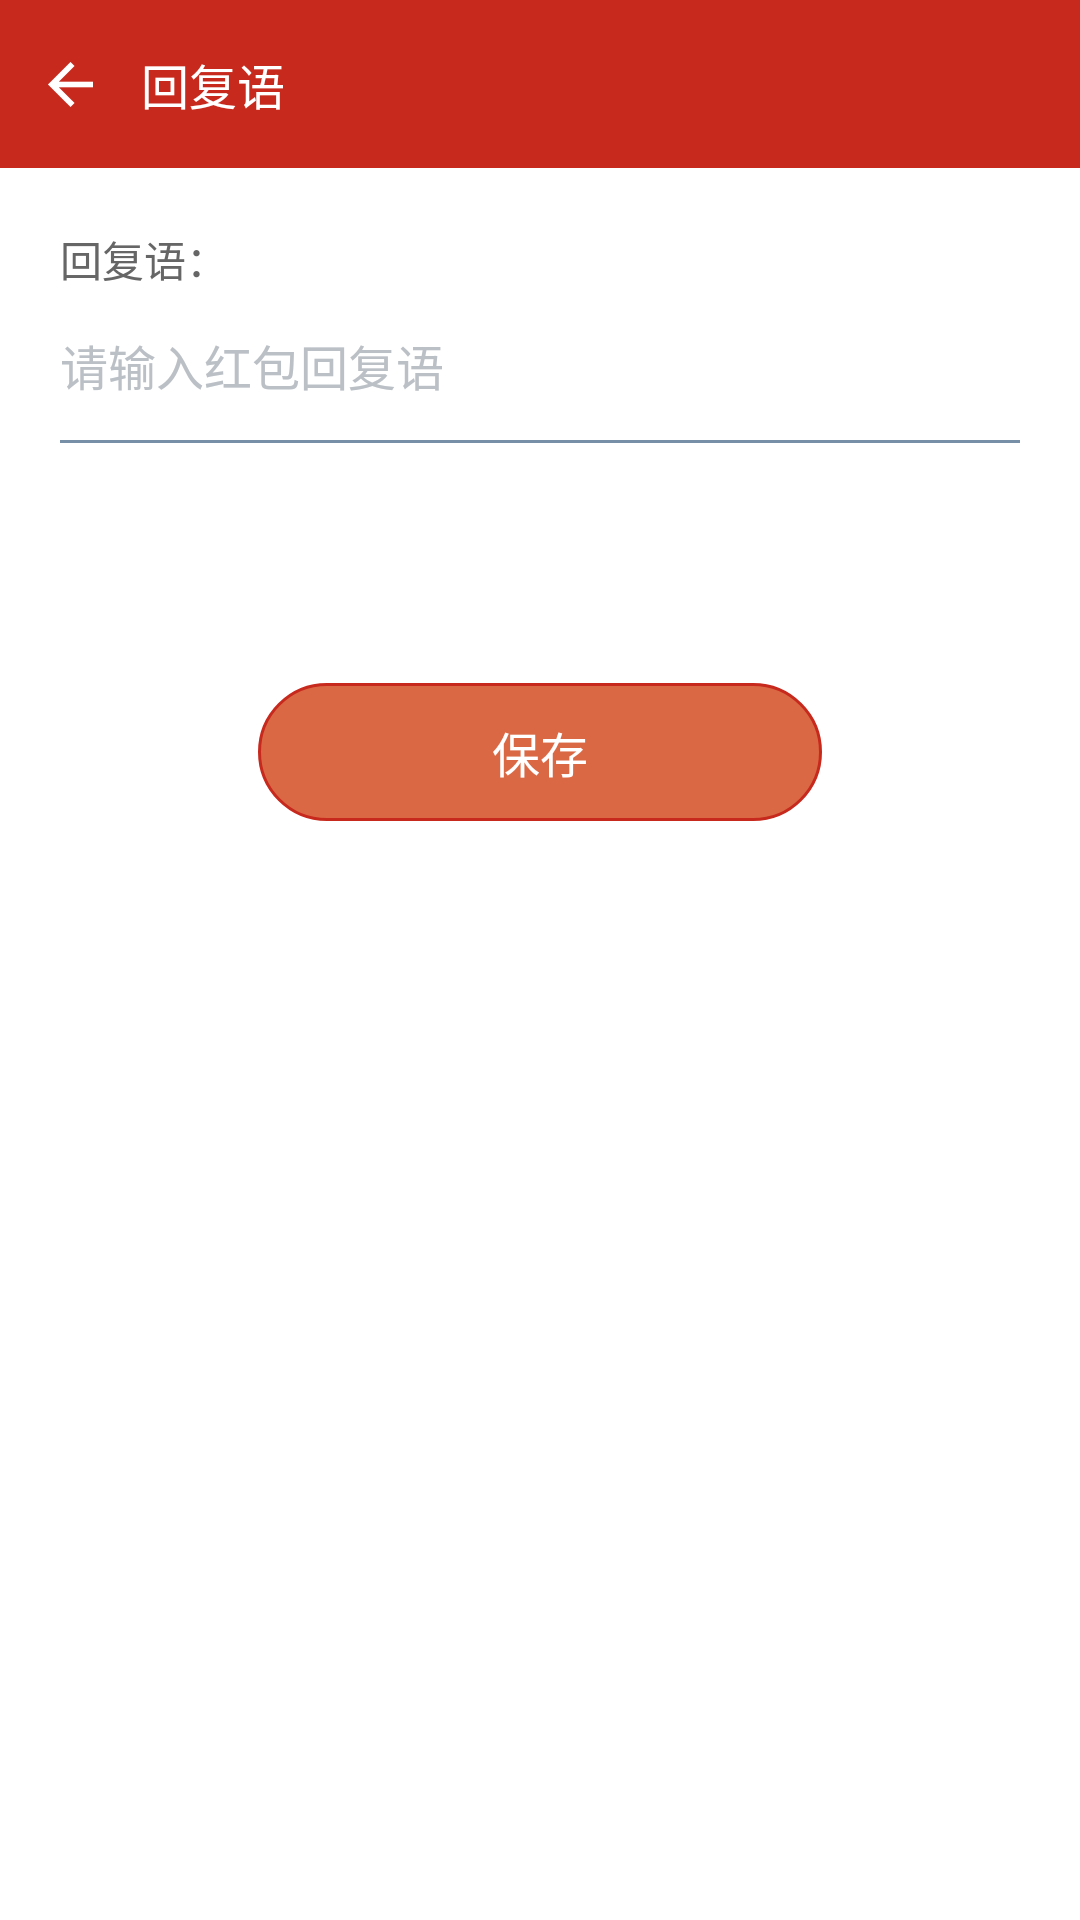

Where icons sit on this 1080x1920 app screen, as (x1, y1, x2, y2):
back: (48, 62, 93, 107)
